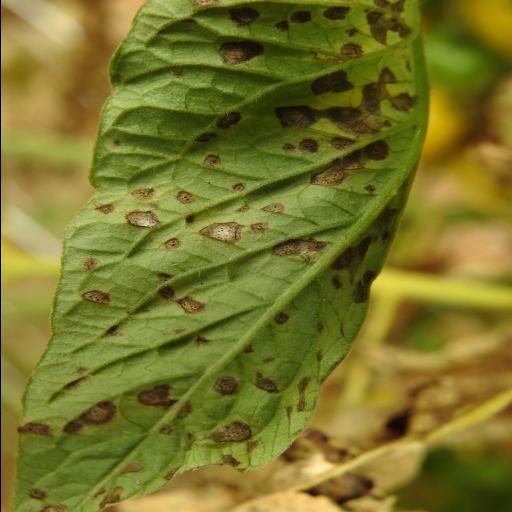disease_tomato: (13, 1, 455, 507)
